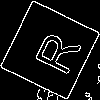R: (25, 25, 83, 78)
